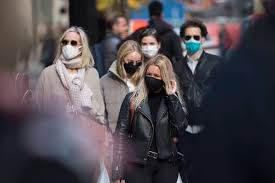with-mask: (54, 24, 89, 64), (140, 51, 167, 97), (178, 20, 206, 58), (116, 38, 142, 77), (139, 28, 162, 60)
